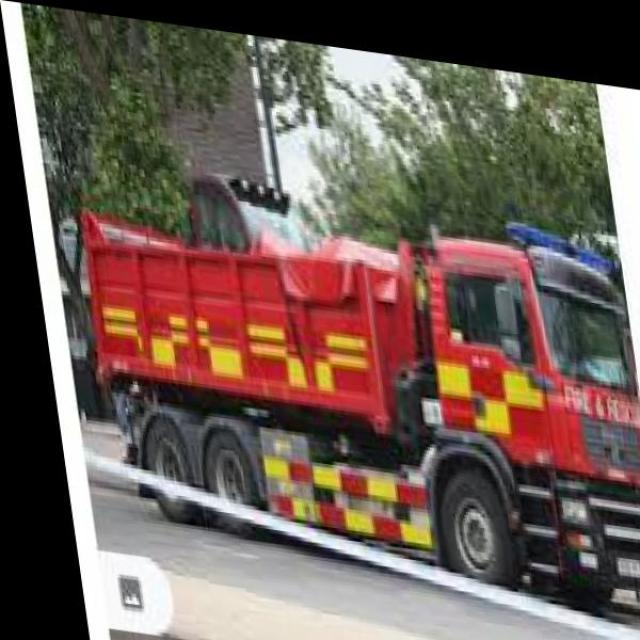emergency: (72, 170, 638, 622)
